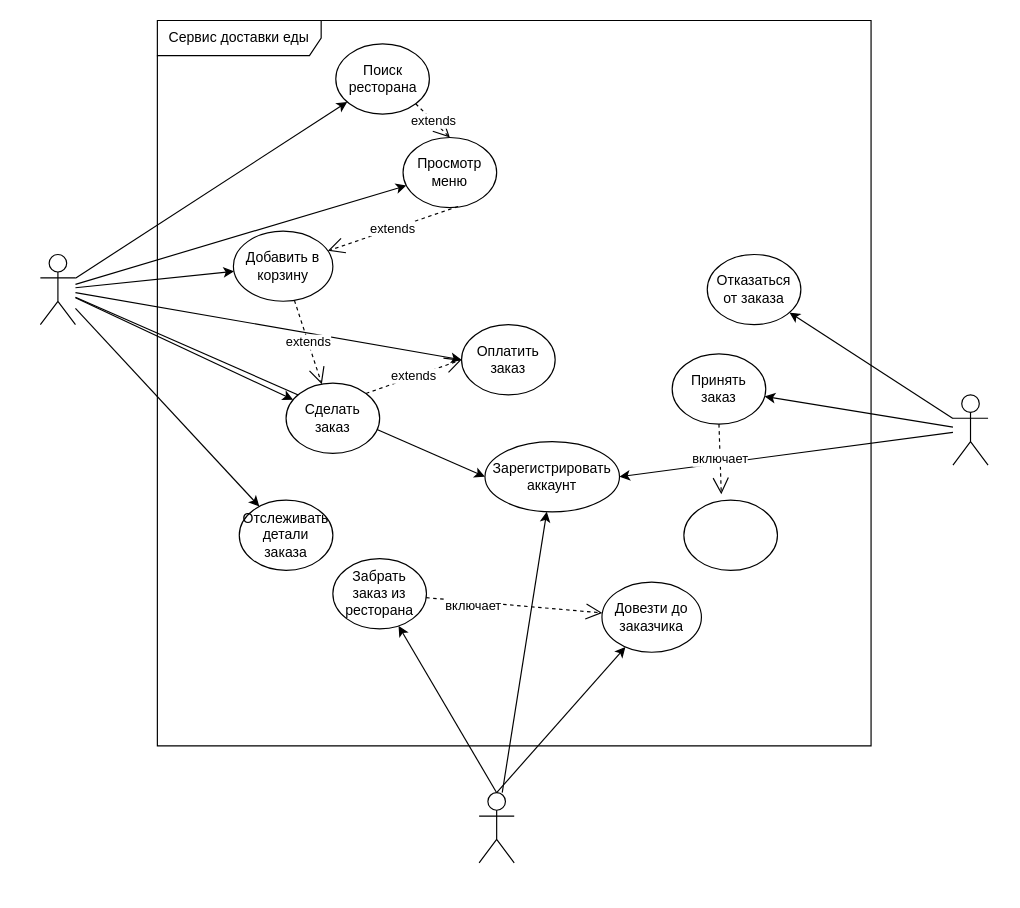
This 1020x908 diagram has some shape labels left out. The shapes that lost their labels are listed below. From the top down, each one's centre as x and y in pixels, then its label:
At point (57, 289): "Покупатель".
At point (970, 429): "Ресторан".
At point (730, 534): "Уведомить курьеров".
At point (496, 827): "Курьер".
